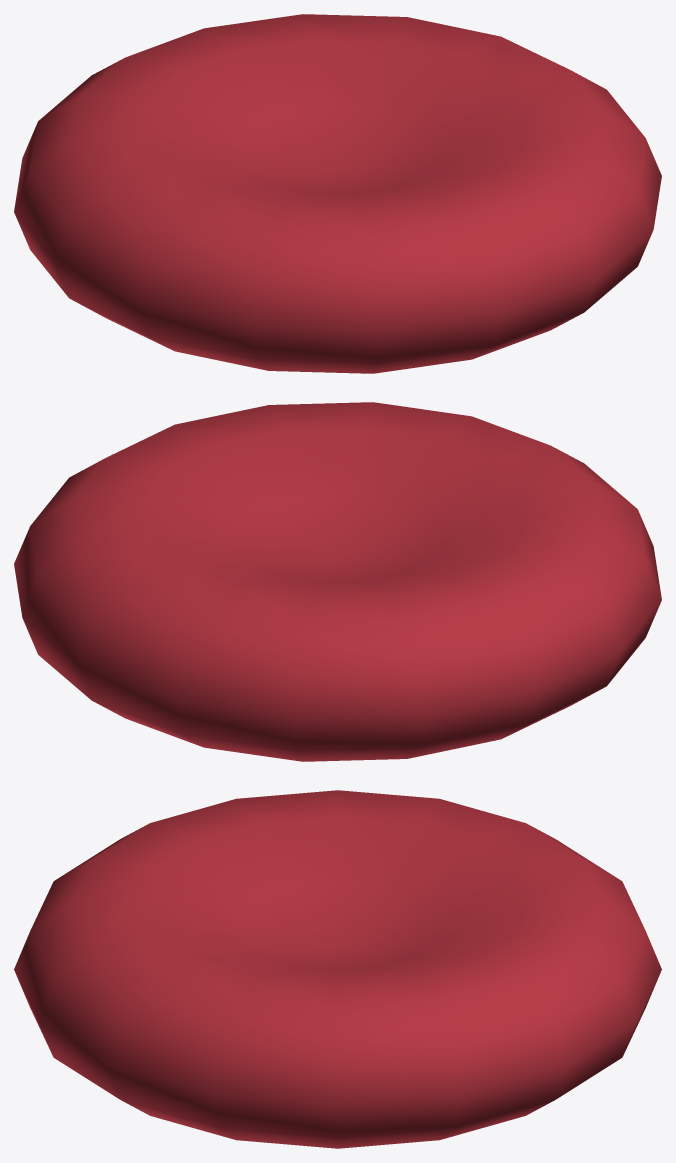
Rendered from RedBloodCell.fbx.
3 views of the same model, one above another, from view 1: azimuth 30°, elevation 25°; view 2: azimuth 150°, elevation 25°; view 3: azimuth 270°, elevation 25° (orthographic).
Visible parts, largest first — view 1: RedBloodCell; view 2: RedBloodCell; view 3: RedBloodCell.
Boxes of the visible parts, x1,y1,x2,y2 form: RedBloodCell: [14, 14, 661, 373]; RedBloodCell: [14, 402, 661, 761]; RedBloodCell: [14, 790, 661, 1148].
Size of the model in its own units: 1 by 0.2385 by 1.
